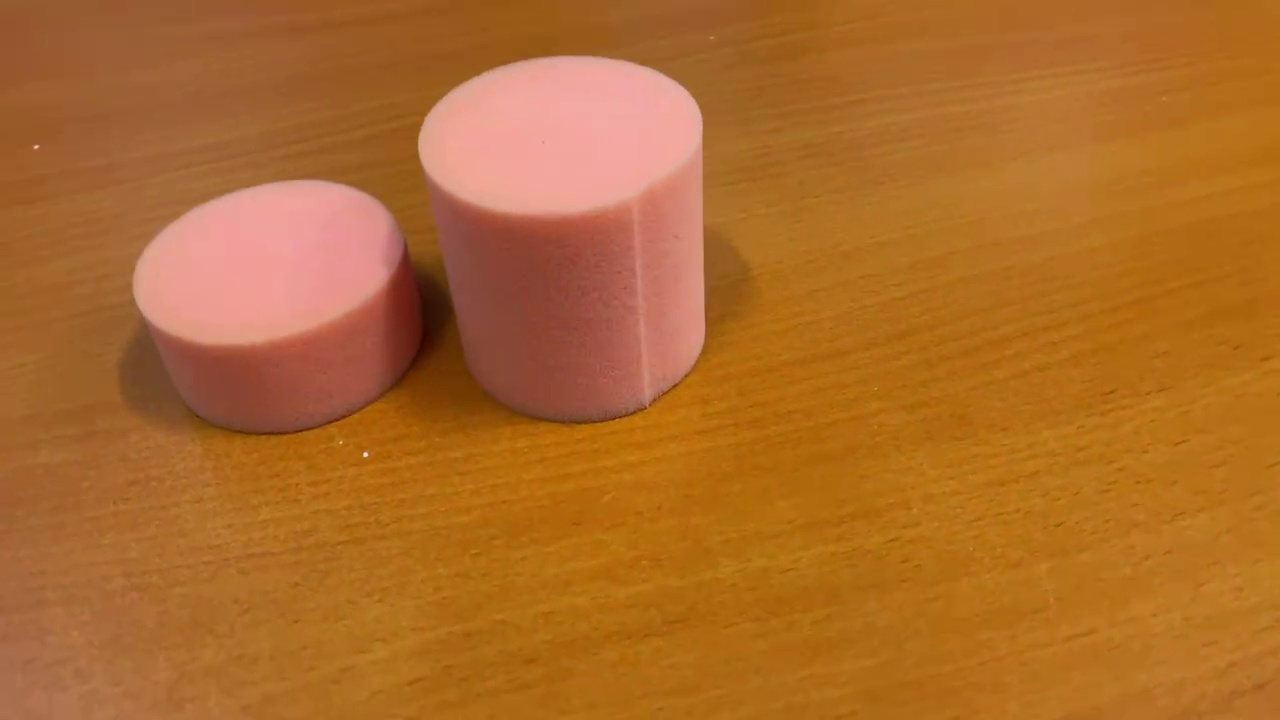Clyinder_short: (130, 173, 425, 439)
Cylinder: (415, 50, 712, 431)
